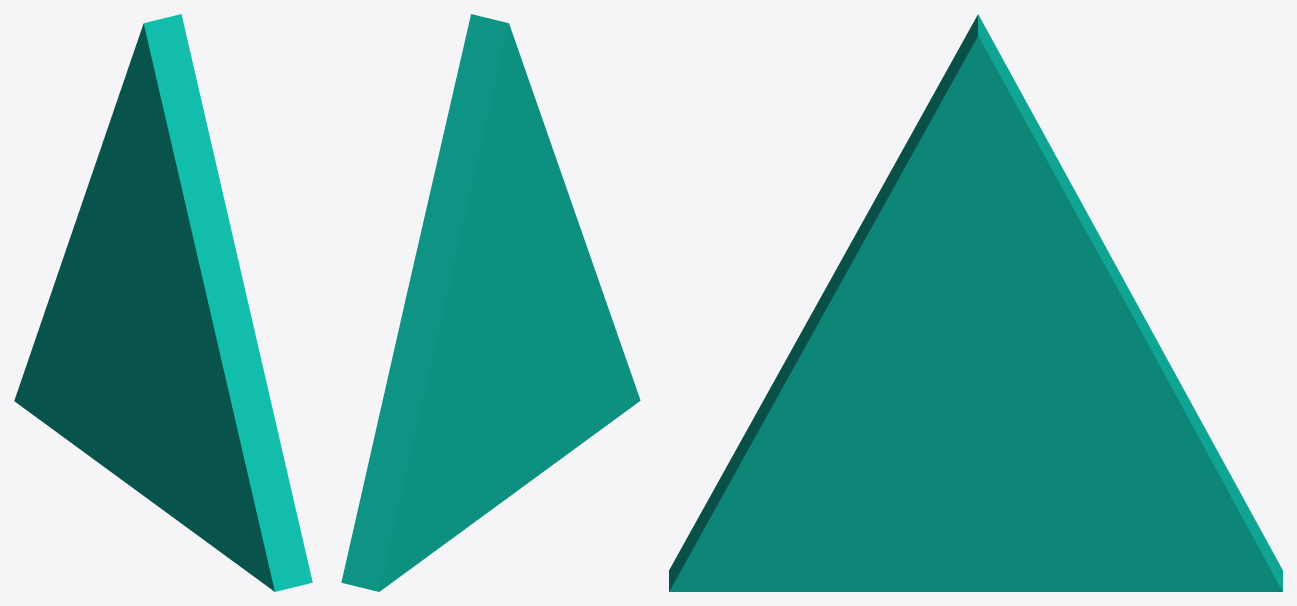
File: skate.obj
3 views of the same model, side by side, from view 1: azimuth 30°, elevation 25°; view 2: azimuth 150°, elevation 25°; view 3: azimuth 270°, elevation 25° (orthographic). The views are drawn at different scales.
Parts seen in each view (by area): view 1: Cube_Cube.001; view 2: Cube_Cube.001; view 3: Cube_Cube.001.
Boxes of the visible parts, left/top/right/bottom form: Cube_Cube.001: left=14, top=14, right=312, bottom=591; Cube_Cube.001: left=341, top=14, right=640, bottom=591; Cube_Cube.001: left=669, top=14, right=1282, bottom=591.
Size of the model in its own units: 0.1675 by 2 by 2.
